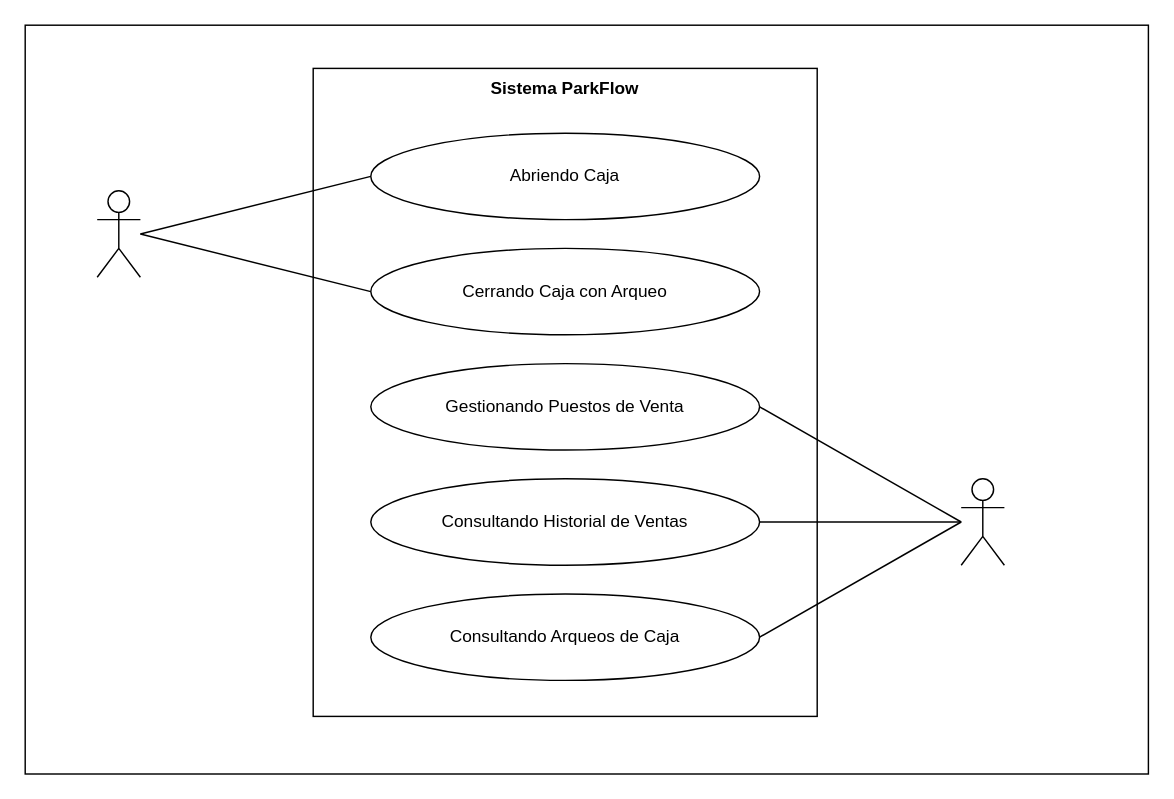
This 1174x799 diagram has some shape labels left out. Here are the shapes that lost their labels. From the top down, the centre of each, then its label:
At point (118, 233): "Cajero".
At point (982, 521): "Administrador".
